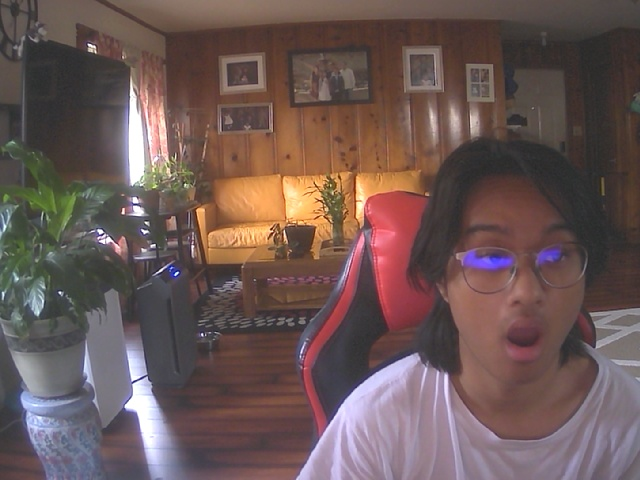fear: (430, 159, 601, 388)
